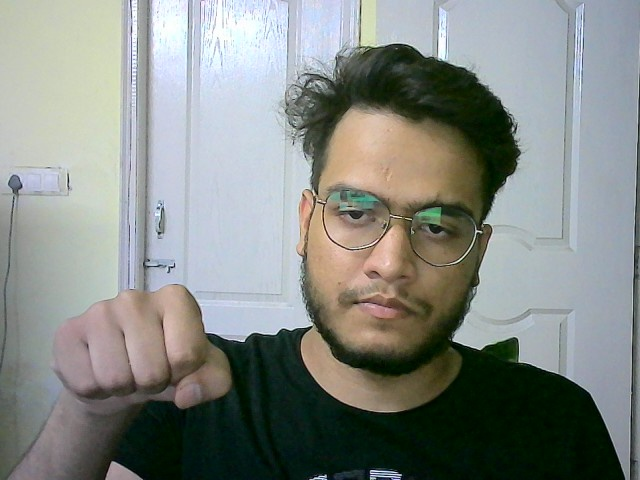Yes: (36, 283, 243, 424)
